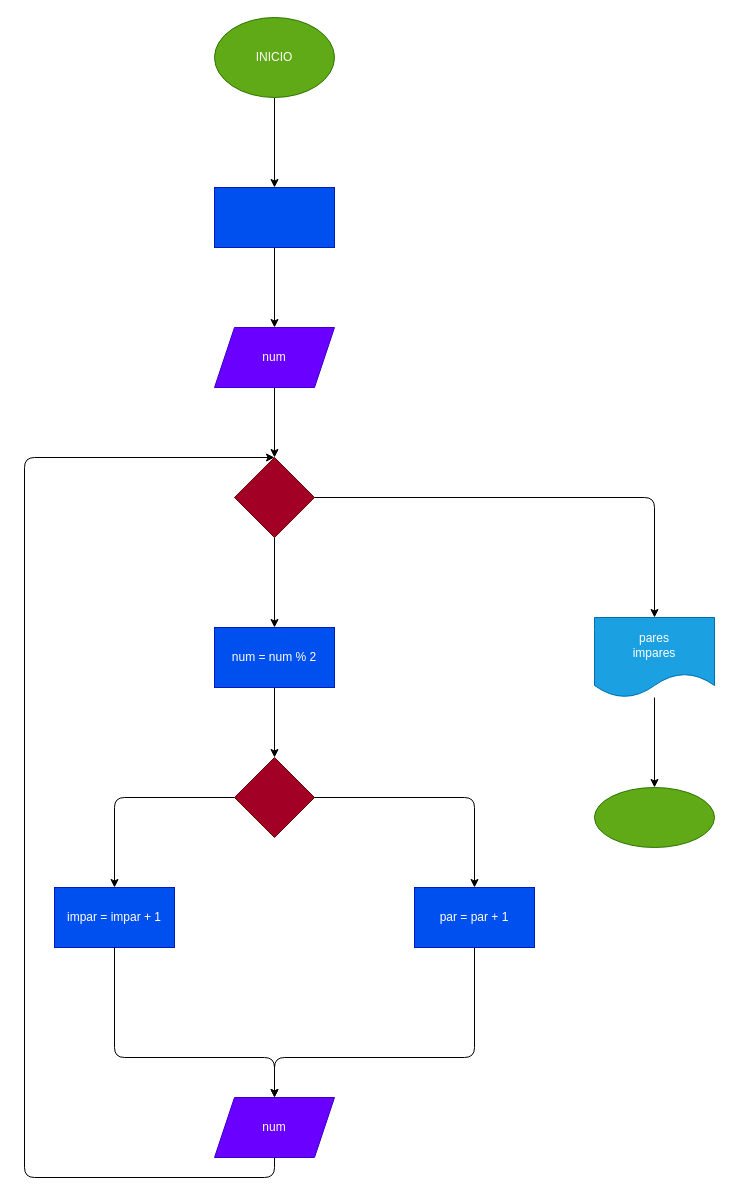
Image size: 732x1203. Some labels were removed from this diagram. Here are the shapes that lost their labels. From the top down, the centre of each, then its label:
pixel 274 217: pares = 0 impares = 0
pixel 274 497: num != 0
pixel 274 797: num == 0
pixel 654 817: FIN
